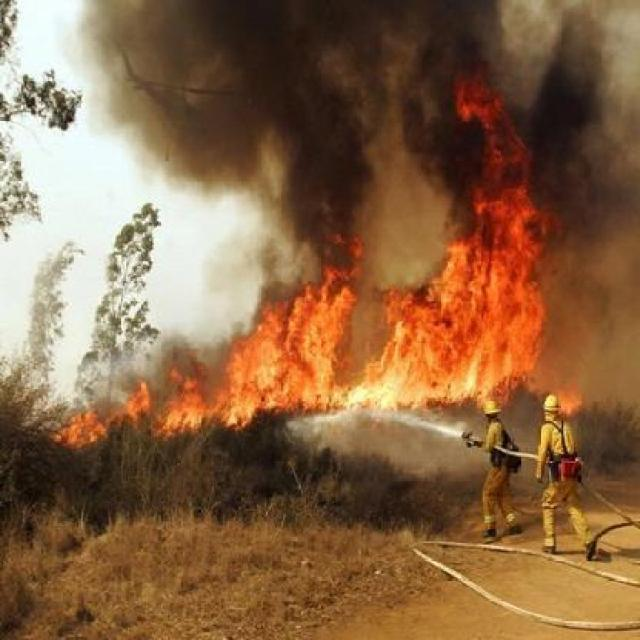Fire: (47, 237, 566, 457), (448, 86, 564, 306)
Smoke: (82, 9, 458, 236), (481, 7, 640, 386)
